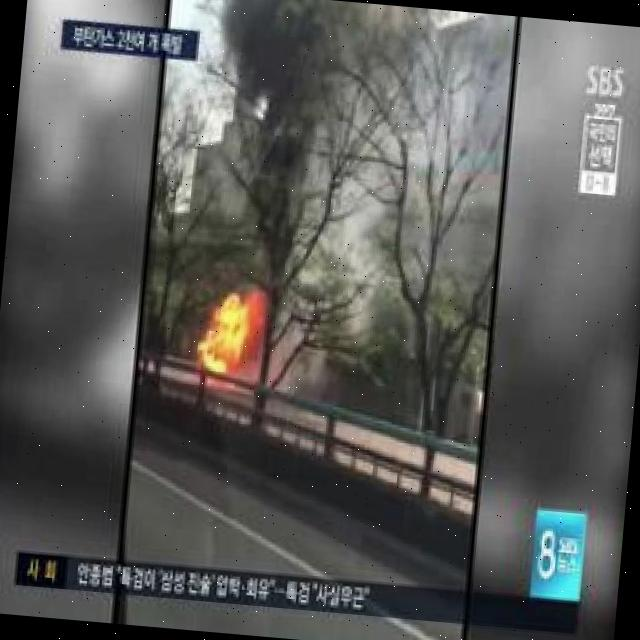fire: (188, 280, 274, 372)
